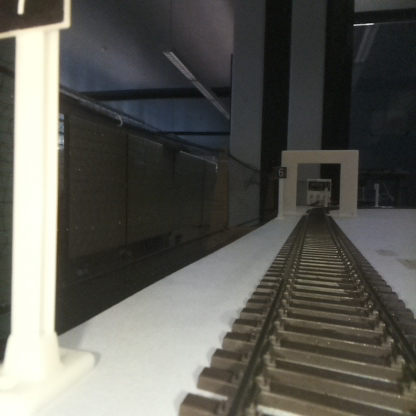black-info-6: (275, 166, 286, 219)
